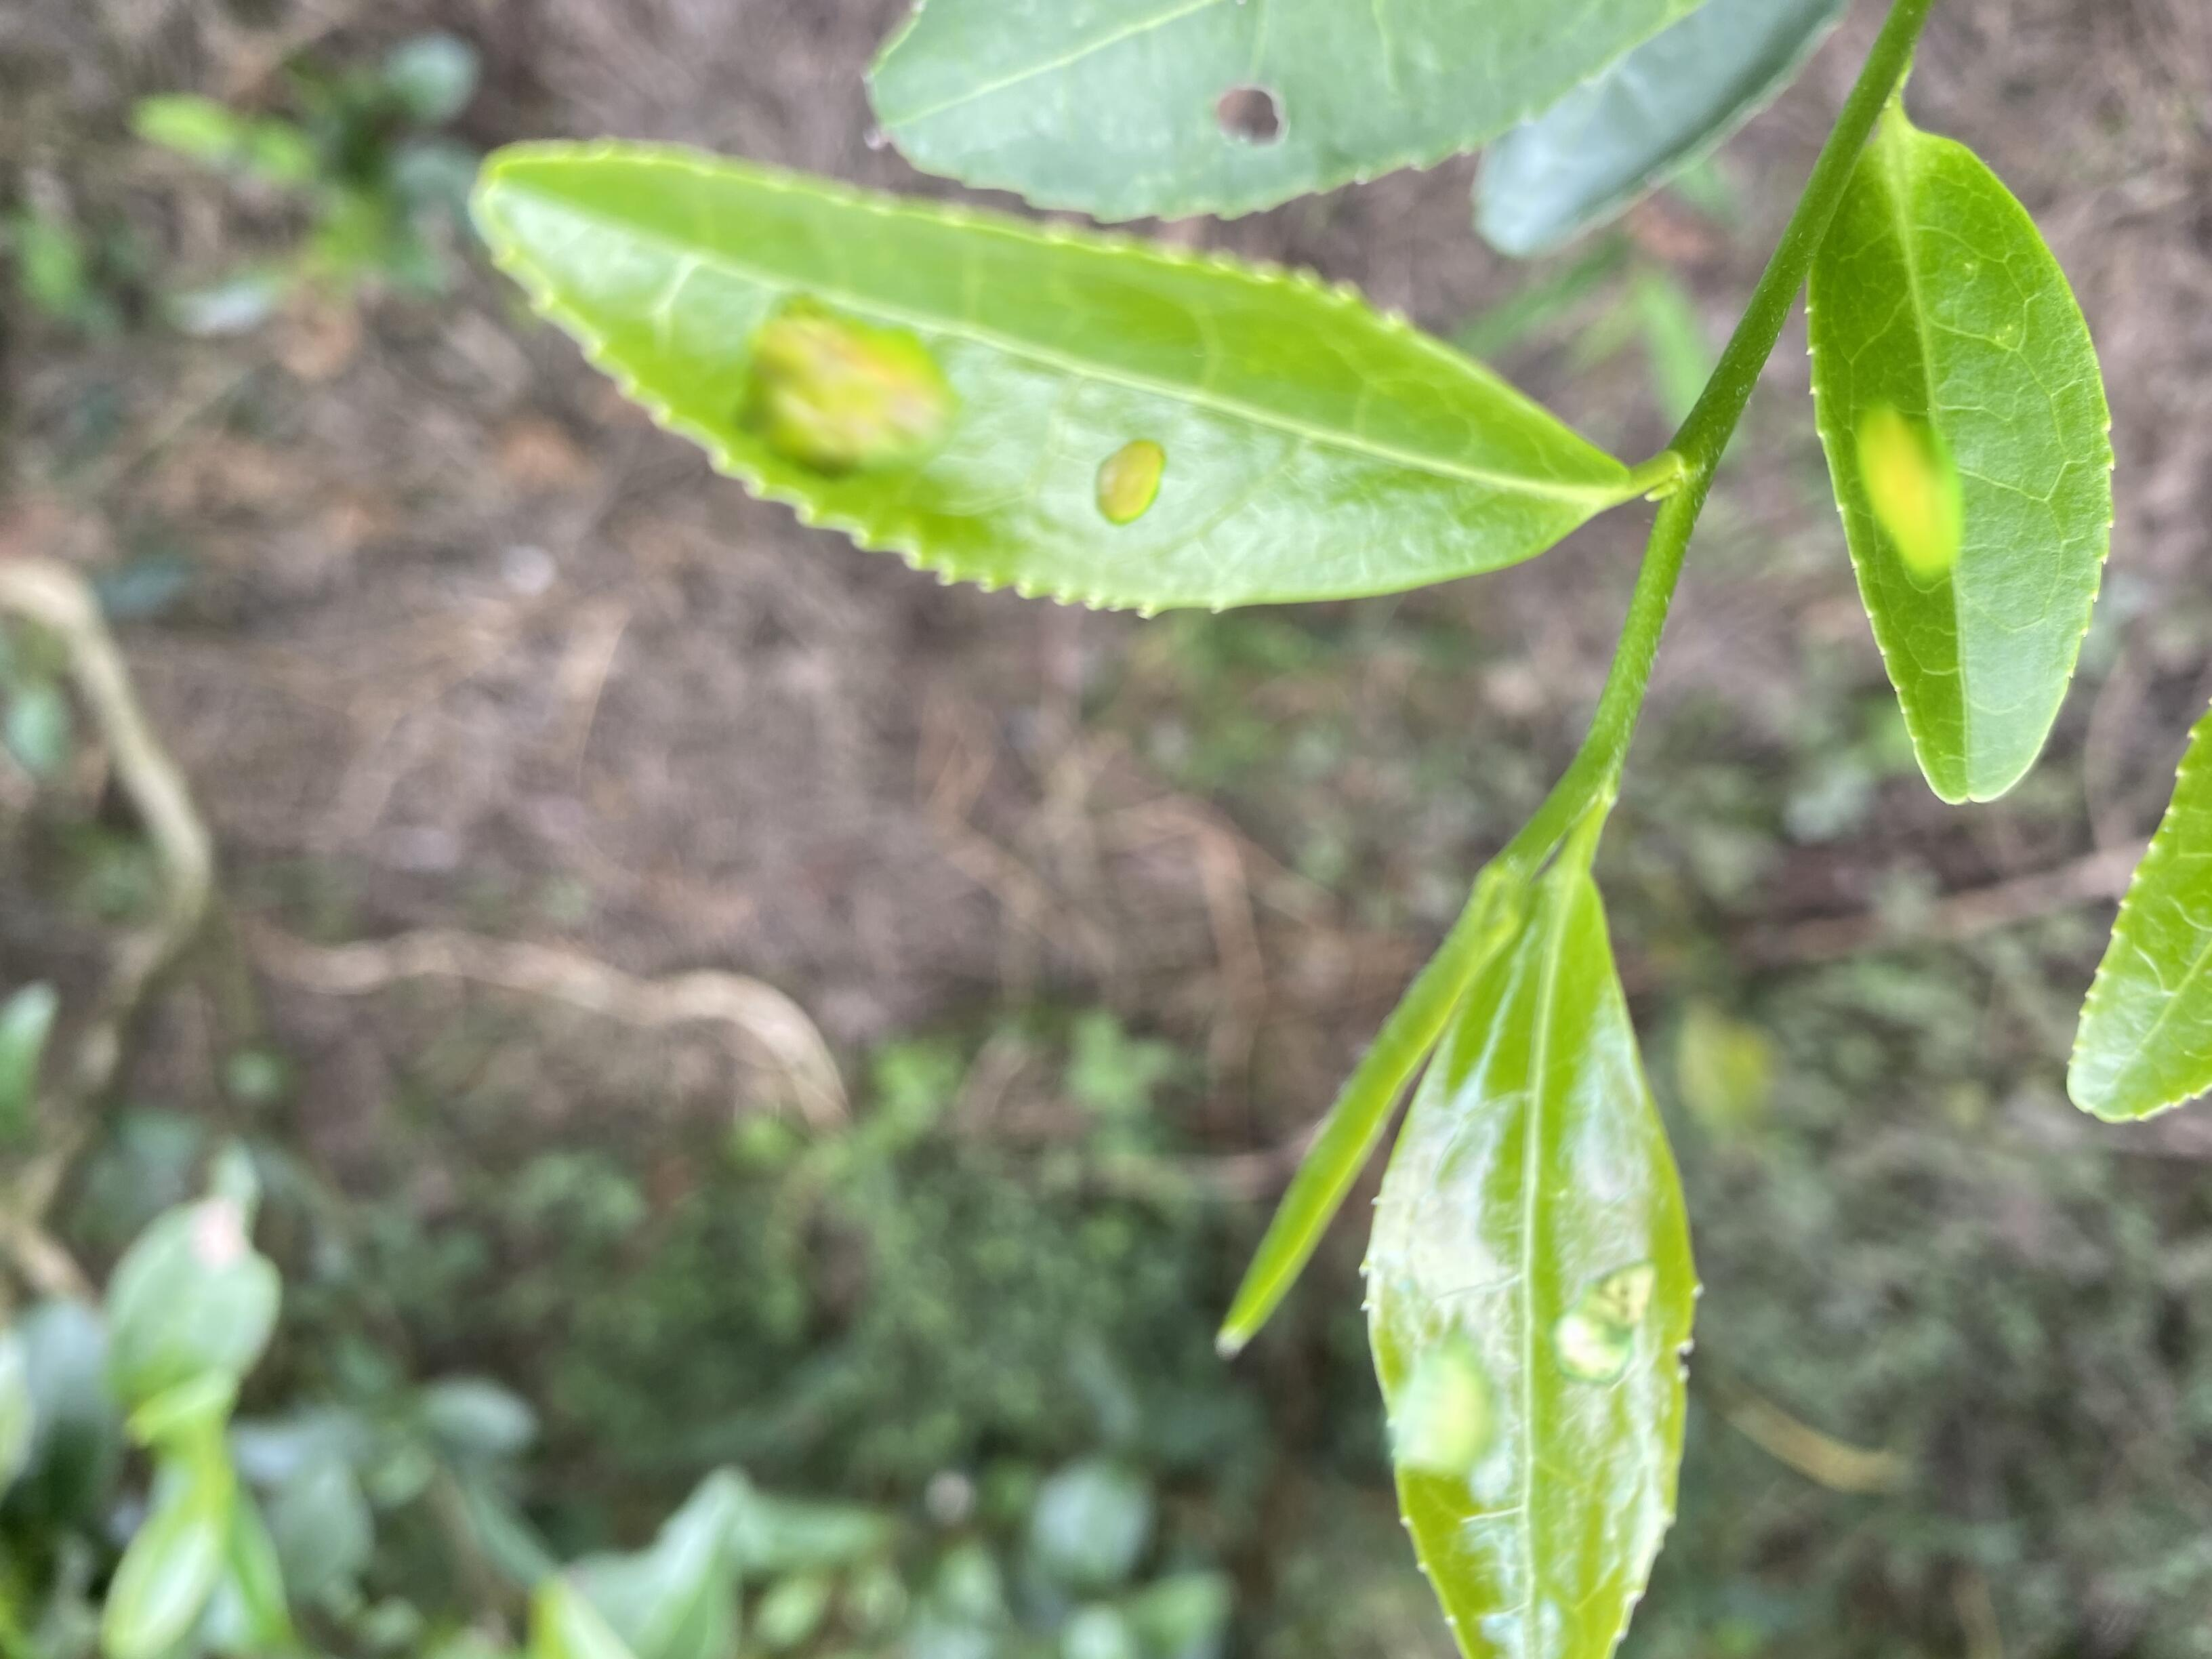chabing_high: (474, 136, 1625, 617), (1352, 871, 1705, 1659)
chabing_low: (1803, 132, 2118, 803)
chihuo_low: (864, 3, 1703, 223)
healthy: (2062, 704, 2209, 1124)
